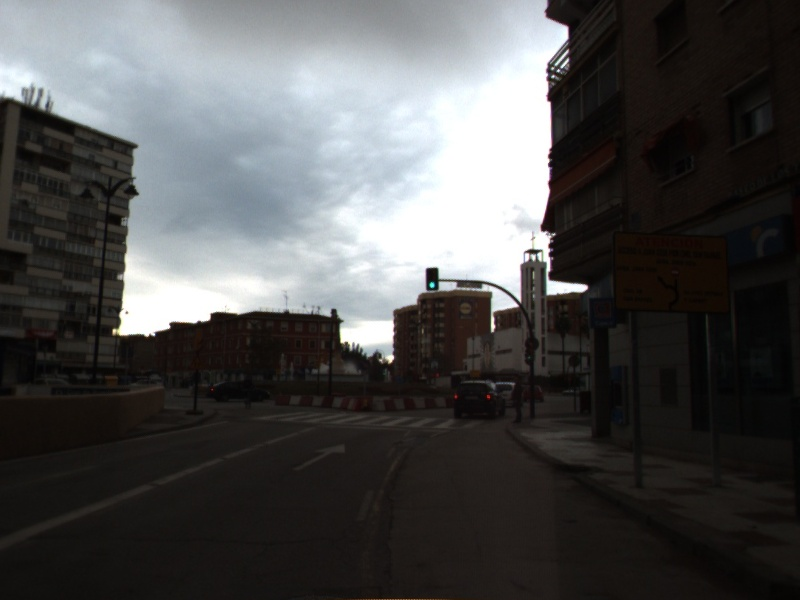STRAIGHT: (290, 442, 348, 473)
